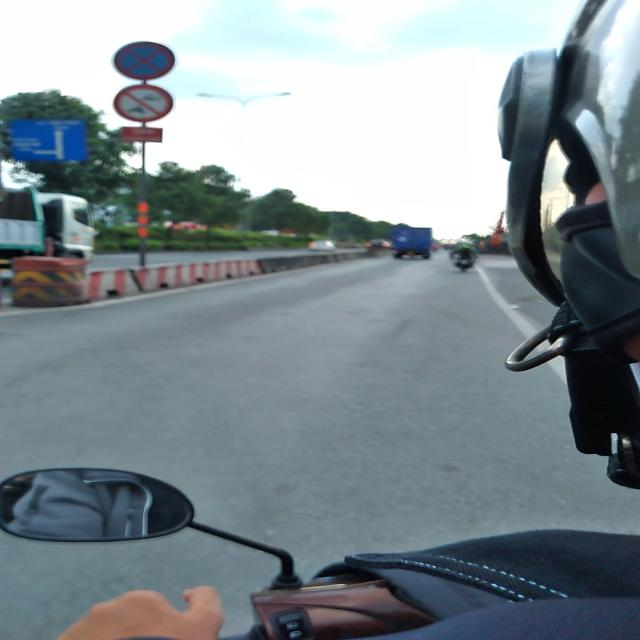Cam dung va do: (112, 41, 176, 80)
